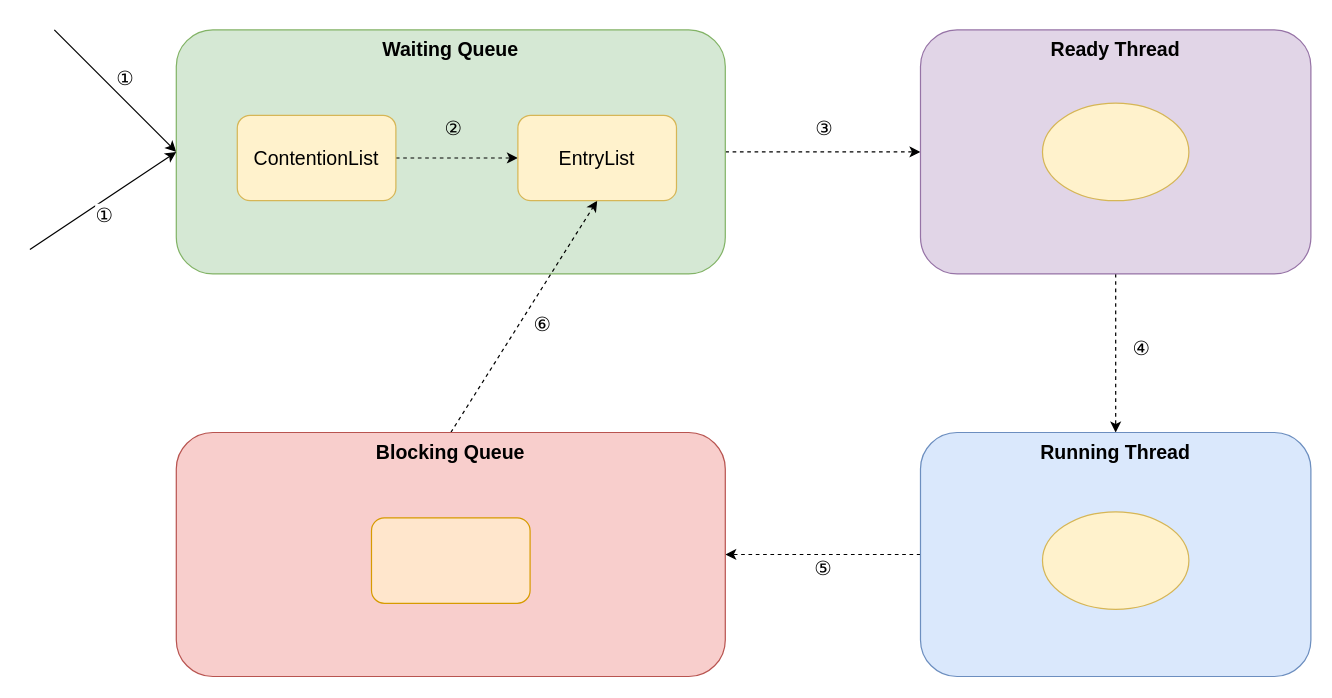
This 1332x698 diagram has some shape labels left out. Here are the shapes that lost their labels. From the top down, the centre of each, then its label:
pixel 1115 151: OnDeck
pixel 450 560: WaitSet
pixel 1115 560: Owner
